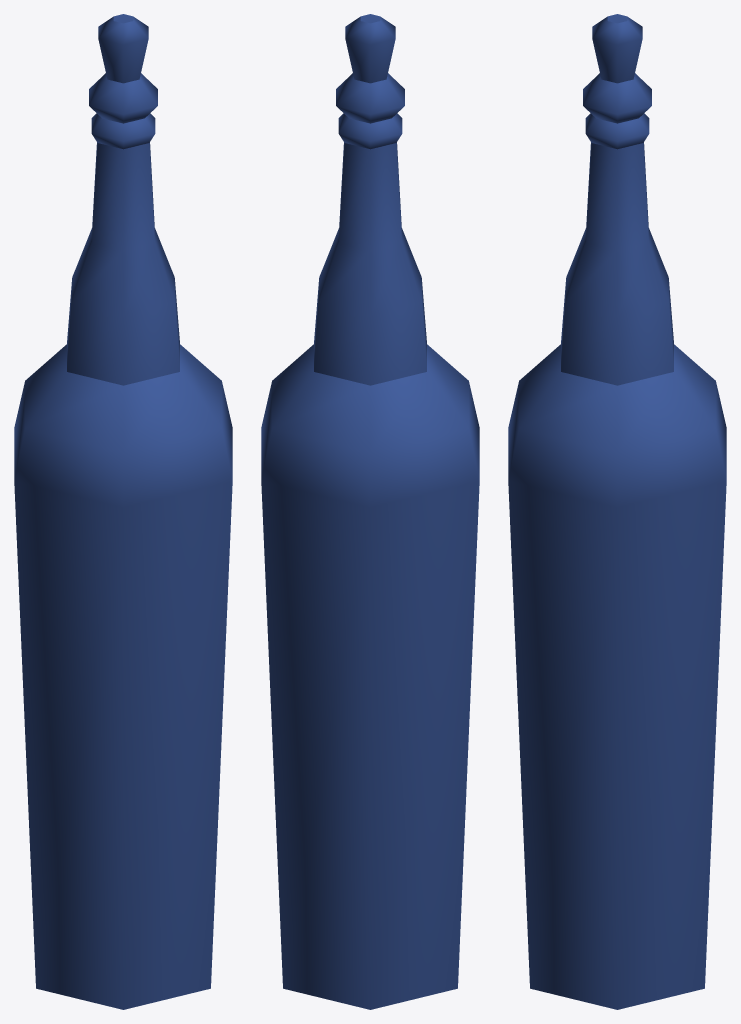
File: Bottle 2.fbx
3 renders of one model, left to right at view 1: azimuth 30°, elevation 25°; view 2: azimuth 150°, elevation 25°; view 3: azimuth 270°, elevation 25°, orthographic.
Parts seen in each view (by area): view 1: T2_Bottle_01; view 2: T2_Bottle_01; view 3: T2_Bottle_01.
Boxes of the visible parts, x1,y1,x2,y2 form: T2_Bottle_01: (14,14,232,1009); T2_Bottle_01: (261,14,479,1009); T2_Bottle_01: (508,14,726,1009).
Bounding box in the file's own units: 11.65 × 49.3 × 10.09.
